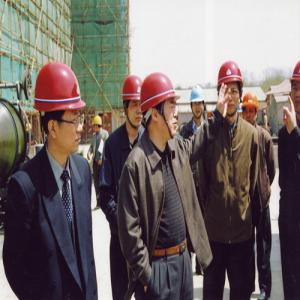blue: (189, 83, 206, 121)
red: (35, 63, 85, 157), (140, 73, 180, 141), (218, 62, 245, 119), (121, 76, 145, 130), (288, 57, 300, 118)
yellow: (242, 90, 260, 125), (93, 116, 103, 133)
